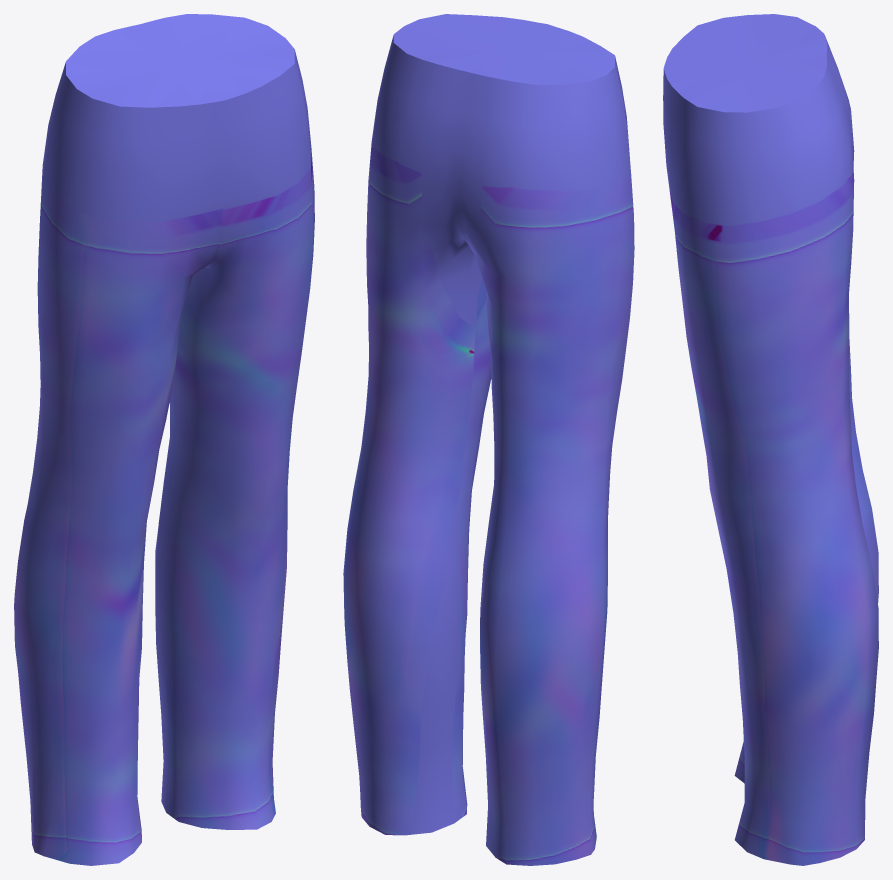
File: Pants_Normal.glb
3 views of the same model, side by side, from view 1: azimuth 30°, elevation 25°; view 2: azimuth 150°, elevation 25°; view 3: azimuth 270°, elevation 25° (orthographic). The views are drawn at different scales.
Parts seen in each view (by area): view 1: Pants_LP; view 2: Pants_LP; view 3: Pants_LP.
Part boxes in pixels (bbox=[...]): Pants_LP: bbox=[14, 14, 314, 865]; Pants_LP: bbox=[343, 14, 634, 865]; Pants_LP: bbox=[663, 14, 878, 865].
Size of the model in its own units: 0.3227 by 0.9491 by 0.2454.
Materials: 1 (1 with a texture image).
